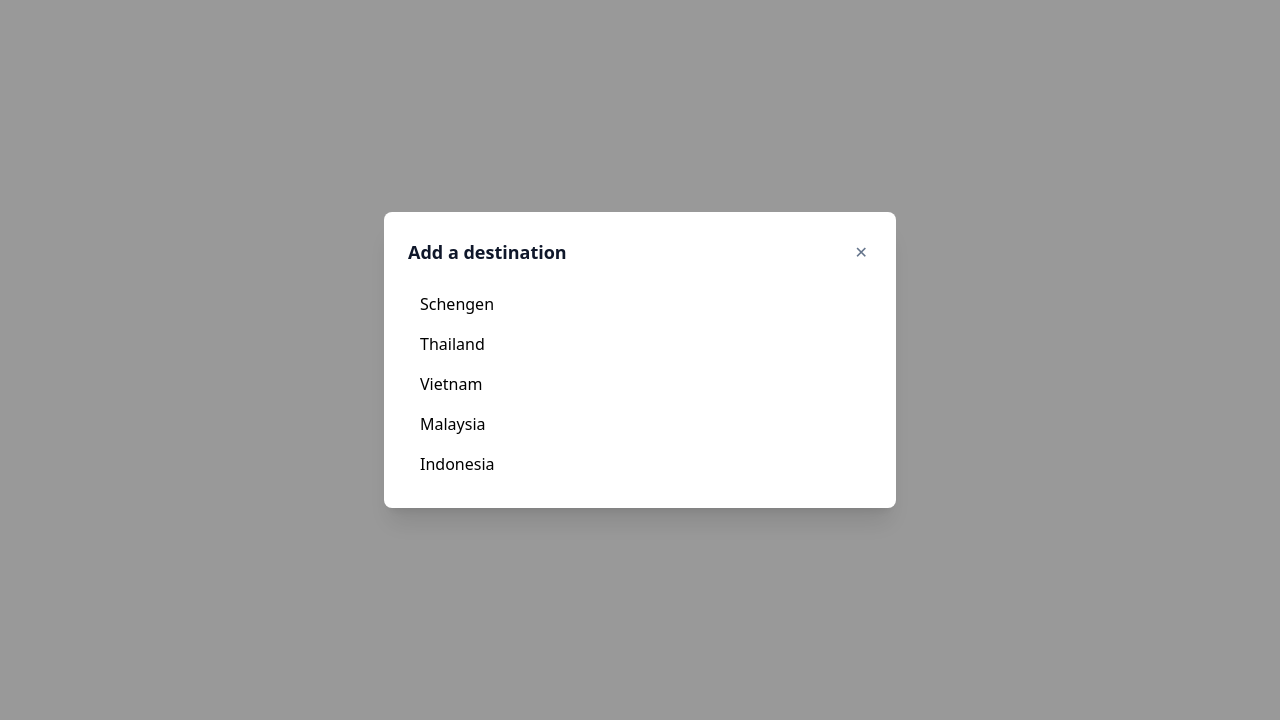
DestinationPicker › shows the inline error without closing on an unsupported/failed submit
The image size is (1280, 720).
Click the button "Thailand" at point(452, 344), box 408,324 -> 872,364
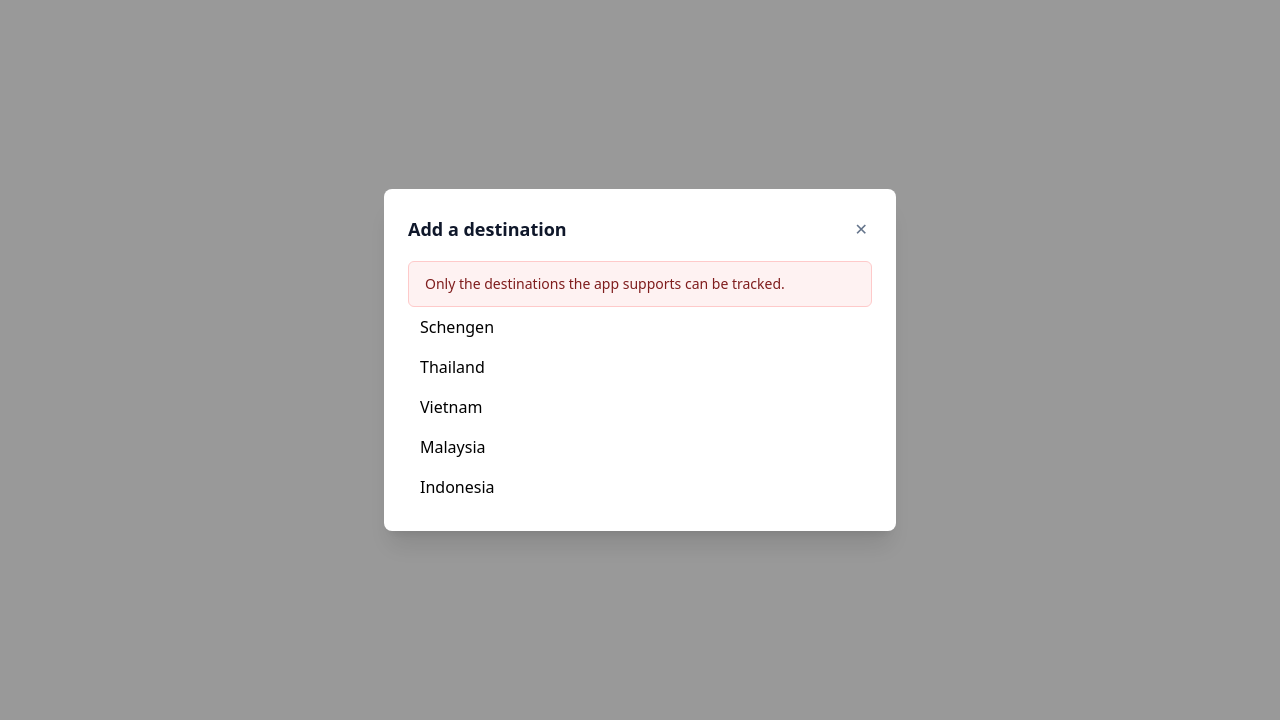
Result: the message "Only the destinations the app supports can be tracked." is shown at 408,261 -> 872,307
